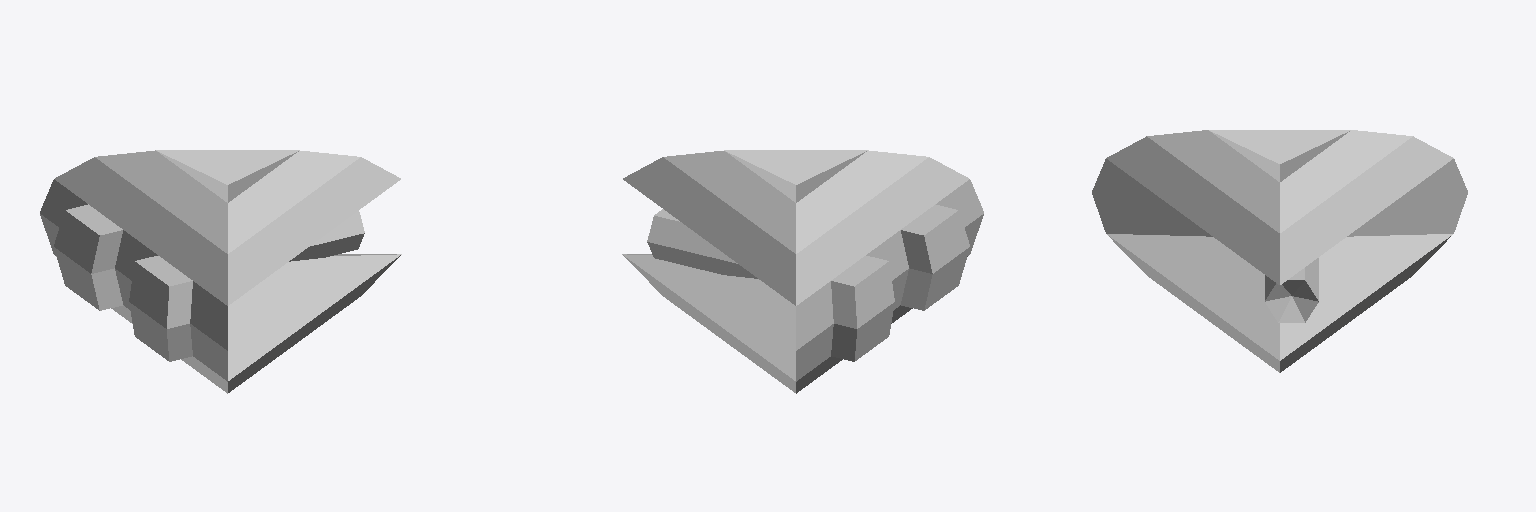
Rendered from bloke26.obj.
3 renders of one model, left to right at view 1: azimuth 30°, elevation 25°; view 2: azimuth 150°, elevation 25°; view 3: azimuth 270°, elevation 25°, orthographic.
Parts seen in each view (by area): view 1: Body, Weapon; view 2: Body, Weapon; view 3: Body, Weapon.
Boxes of the visible parts, x1,y1,x2,y2 form: Body: [40, 150, 401, 393]; Weapon: [289, 211, 364, 261]; Body: [622, 150, 983, 393]; Weapon: [647, 209, 757, 278]; Body: [1092, 130, 1467, 372]; Weapon: [1265, 258, 1318, 322].
Size of the model in its own units: 1.55 by 0.9619 by 1.73.